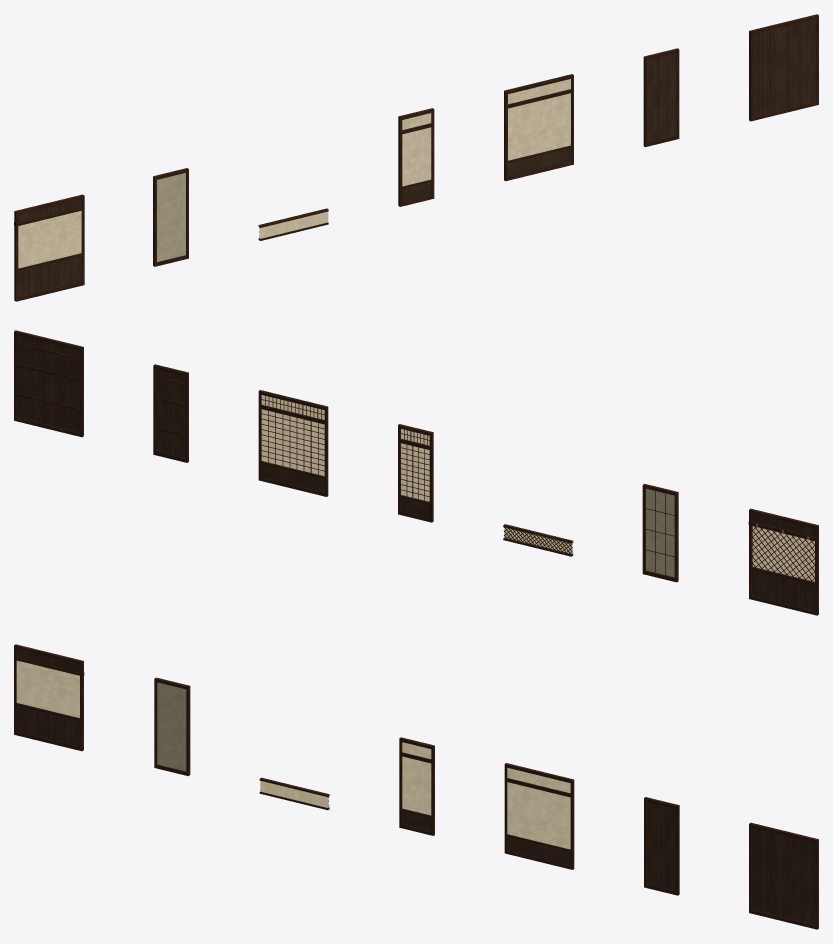
Rendered from wall_panels.glb.
The picture shows the model from 3 angles, top to bottom: view 1: azimuth 30°, elevation 25°; view 2: azimuth 150°, elevation 25°; view 3: azimuth 330°, elevation 25°; orthographic projection.
Visible parts, largest first — view 1: IC14_WallPanel_Decorative_2400__Mesh, IC14_WallPanel_SolidWood_2400__Mesh, IC14_WallPanel_Shoji_Lit_2400__Mesh, IC14_WallPanel_SolidWood_1200__Mesh, IC14_WallPanel_Shoji_Lit_1200__Mesh, IC14_WallPanel_Paper_1200__Mesh, IC14_WallPanel_Ranma_2400__Mesh; view 2: IC14_WallPanel_Shoji_Lit_2400__Mesh, IC14_WallPanel_Decorative_2400__Mesh, IC14_WallPanel_SolidWood_2400__Mesh, IC14_WallPanel_Paper_1200__Mesh, IC14_WallPanel_Shoji_Lit_1200__Mesh, IC14_WallPanel_SolidWood_1200__Mesh, IC14_WallPanel_Ranma_2400__Mesh; view 3: IC14_WallPanel_Shoji_Lit_2400__Mesh, IC14_WallPanel_Decorative_2400__Mesh, IC14_WallPanel_SolidWood_2400__Mesh, IC14_WallPanel_Paper_1200__Mesh, IC14_WallPanel_Shoji_Lit_1200__Mesh, IC14_WallPanel_SolidWood_1200__Mesh, IC14_WallPanel_Ranma_2400__Mesh.
Boxes of the visible parts, x1,y1,x2,y2 form: IC14_WallPanel_Decorative_2400__Mesh: (14,194,84,301); IC14_WallPanel_SolidWood_2400__Mesh: (749,14,818,121); IC14_WallPanel_Shoji_Lit_2400__Mesh: (504,74,573,181); IC14_WallPanel_SolidWood_1200__Mesh: (643,48,679,147); IC14_WallPanel_Shoji_Lit_1200__Mesh: (398,108,434,206); IC14_WallPanel_Paper_1200__Mesh: (153,168,188,266); IC14_WallPanel_Ranma_2400__Mesh: (258,208,328,240); IC14_WallPanel_Shoji_Lit_2400__Mesh: (258,390,328,496); IC14_WallPanel_Decorative_2400__Mesh: (748,508,818,615); IC14_WallPanel_SolidWood_2400__Mesh: (14,330,83,437); IC14_WallPanel_Paper_1200__Mesh: (642,483,678,582); IC14_WallPanel_Shoji_Lit_1200__Mesh: (398,424,433,522); IC14_WallPanel_SolidWood_1200__Mesh: (153,364,188,462); IC14_WallPanel_Ranma_2400__Mesh: (503,524,573,556); IC14_WallPanel_Shoji_Lit_2400__Mesh: (504,763,574,869); IC14_WallPanel_Decorative_2400__Mesh: (14,644,84,751); IC14_WallPanel_SolidWood_2400__Mesh: (749,822,818,929); IC14_WallPanel_Paper_1200__Mesh: (154,677,190,776); IC14_WallPanel_Shoji_Lit_1200__Mesh: (399,737,434,835); IC14_WallPanel_SolidWood_1200__Mesh: (644,797,679,895); IC14_WallPanel_Ranma_2400__Mesh: (259,777,329,810).
Bounding box in the file's own units: 28.21 × 3 × 0.1652.
5 materials, 4 textured.
